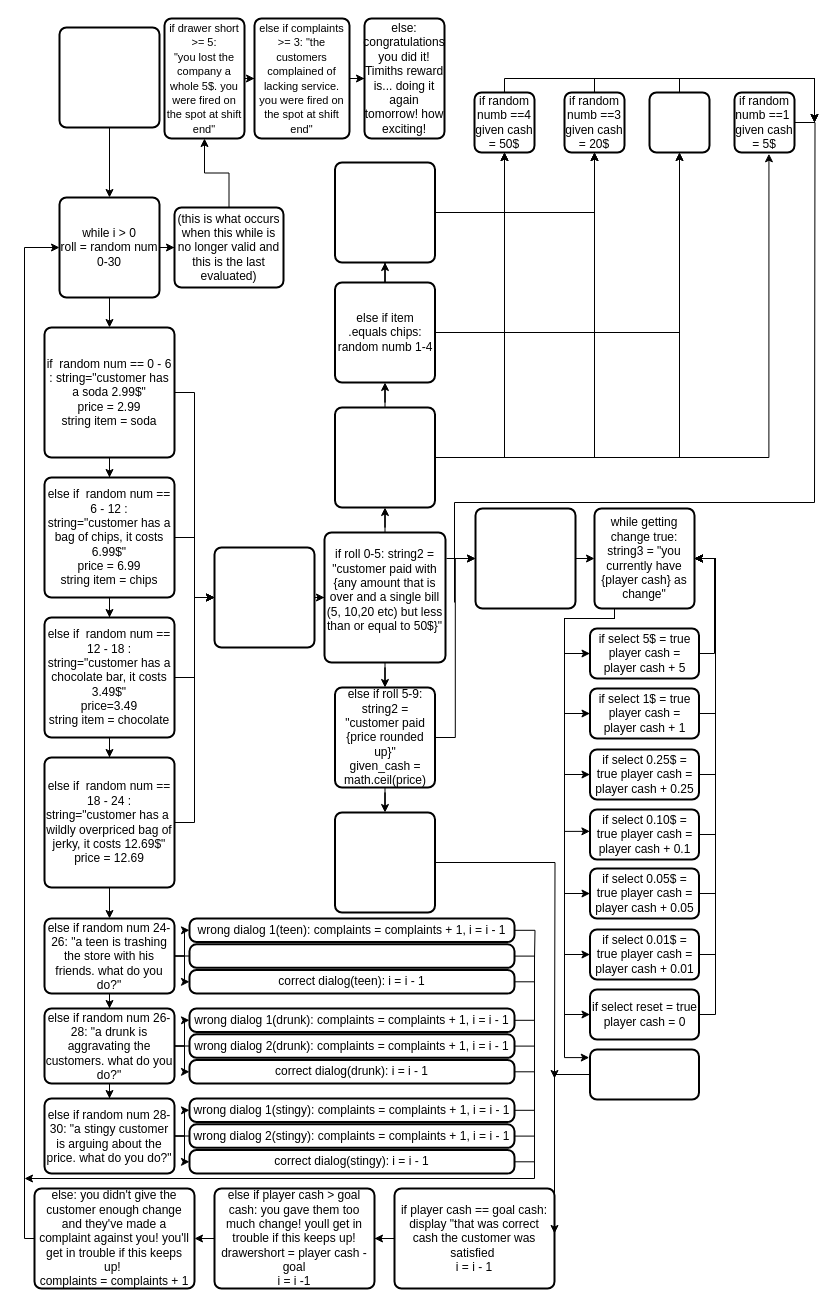
This 840x1306 diagram has some shape labels left out. The shapes that lost their labels are listed below. From the top down, each one's centre as x and y in pixels, then its label:
pixel 109 77: Start. I = 15 drawershort = 0 complaints = 0
pixel 679 122: if random numb == 2 given cash = 10$
pixel 385 212: else: random numb 2 - 4
pixel 385 457: if item .equals soda or chocolate: random numb 0-4
pixel 525 558: goal = given cash- price player cash = 0
pixel 264 597: roll = random num 0-10 value = (int) (price/5) value = (price*5)+5
pixel 385 862: else if roll 9-10: string2 = "customer paid with exact change" i = i - 1
pixel 351 955: wrong dialog 2(teen): complaints = complaints + 1, i = i - 1
pixel 644 1074: if select confirm: getting change = false
